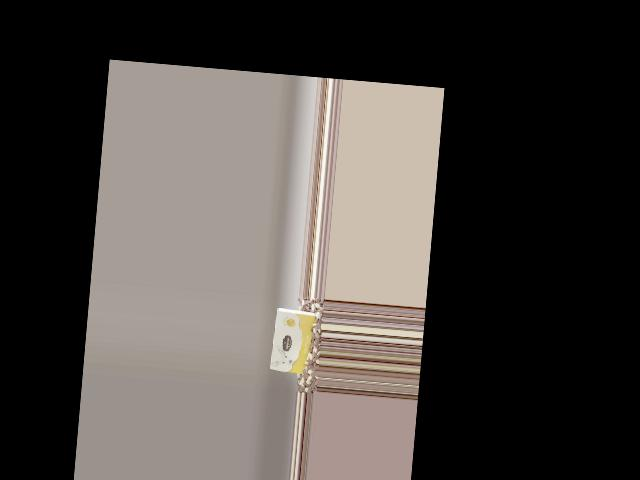chocolate: (267, 304, 318, 378)
